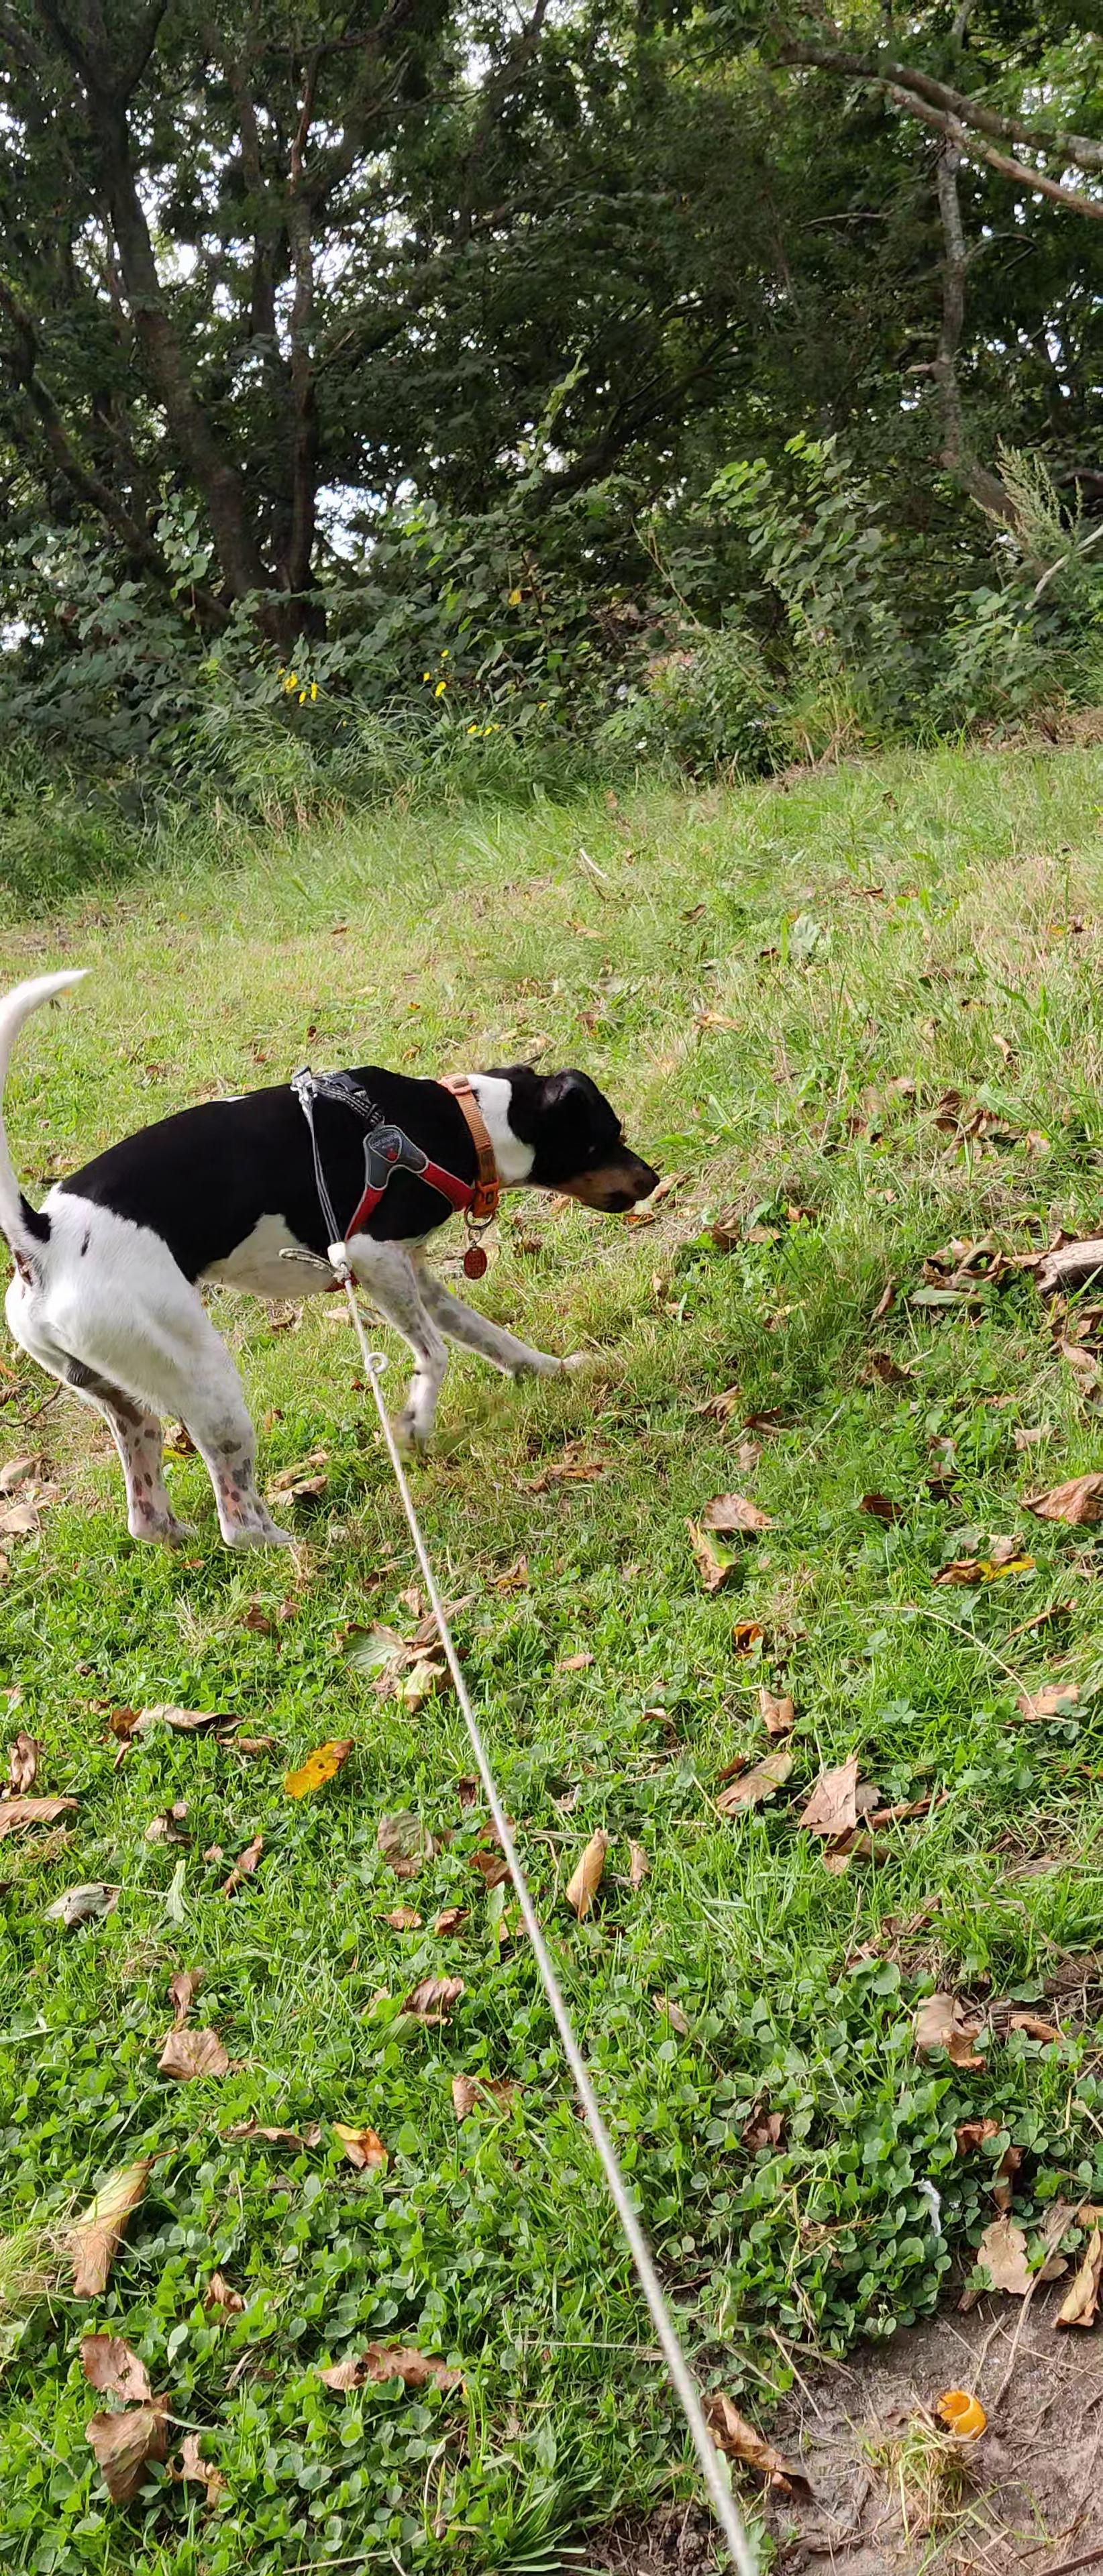Dog: (0, 940, 677, 1561)
